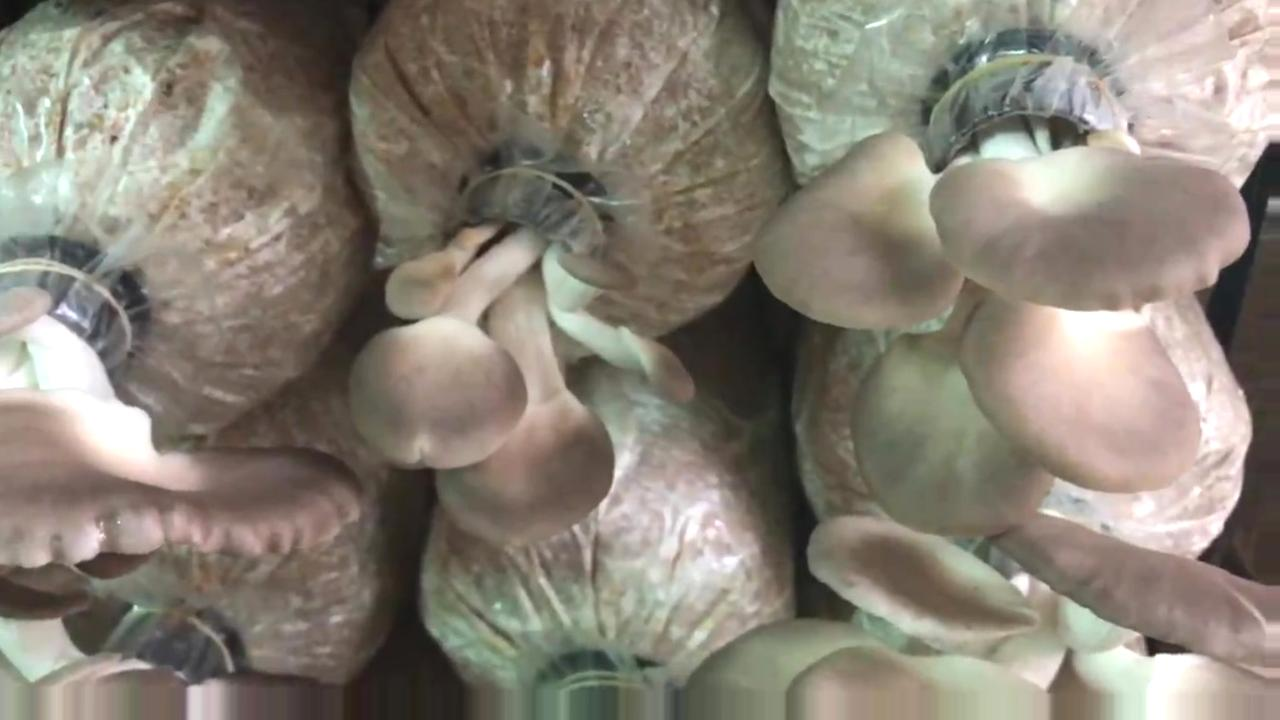nam: (752, 57, 1250, 541), (348, 155, 695, 545), (682, 521, 1271, 716), (1, 239, 360, 553)
